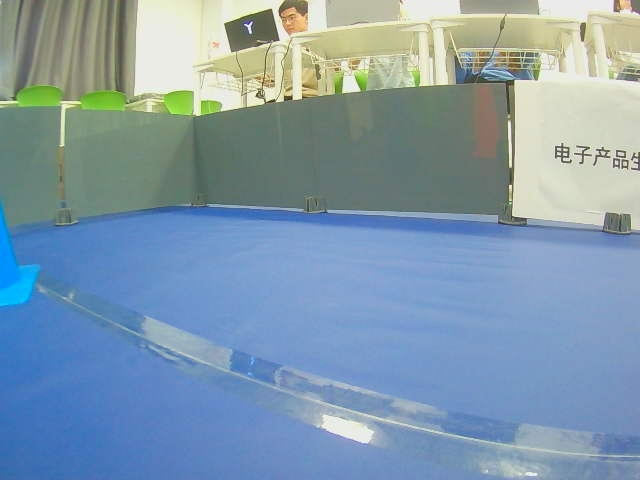target: (553, 142, 640, 173)
